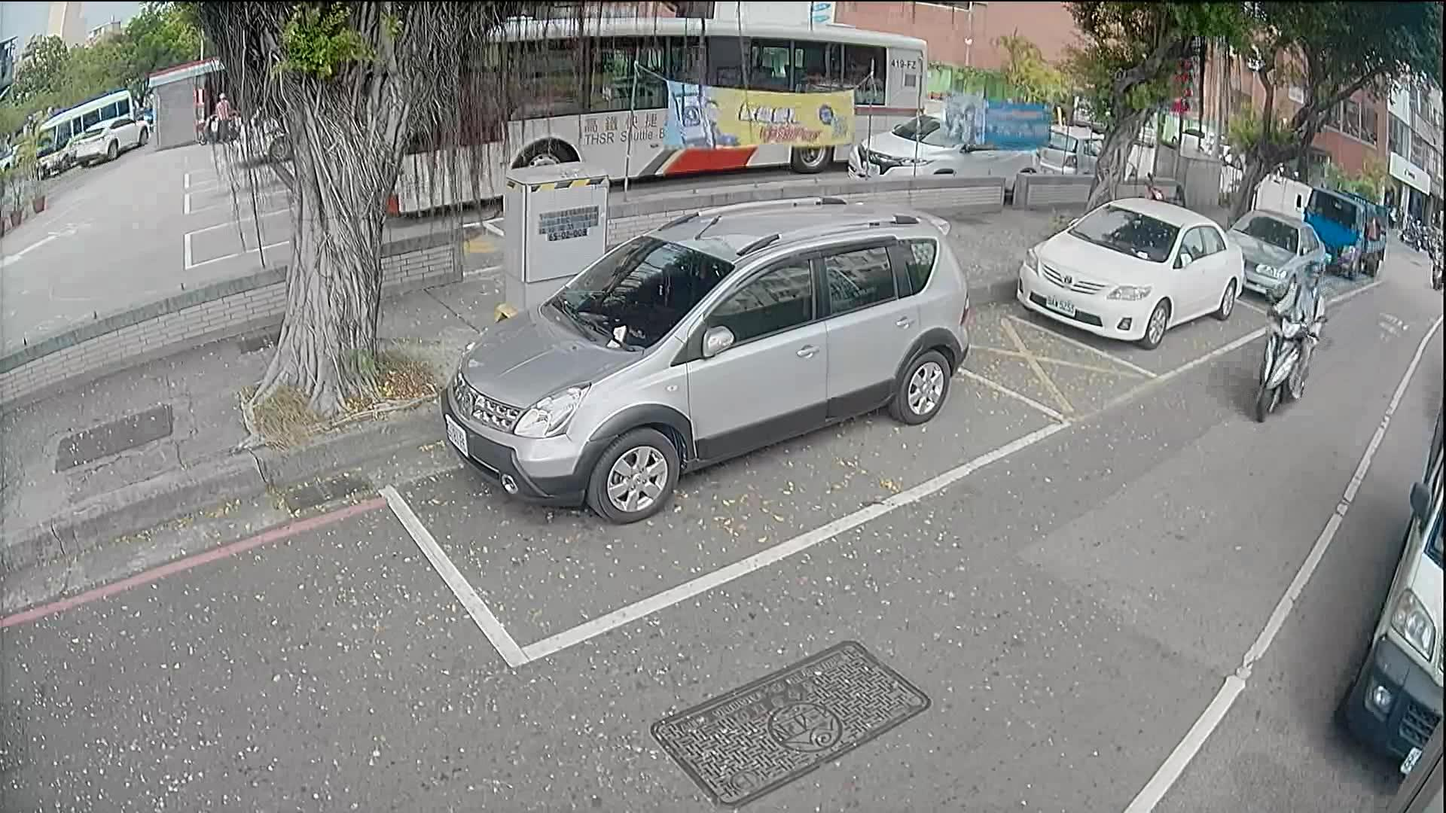person: (1263, 260, 1326, 402), (208, 85, 232, 143)
